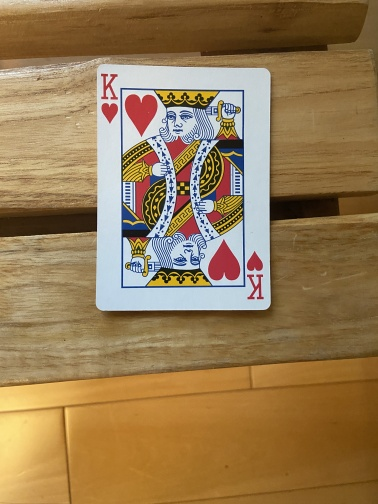king: (94, 63, 273, 314)
